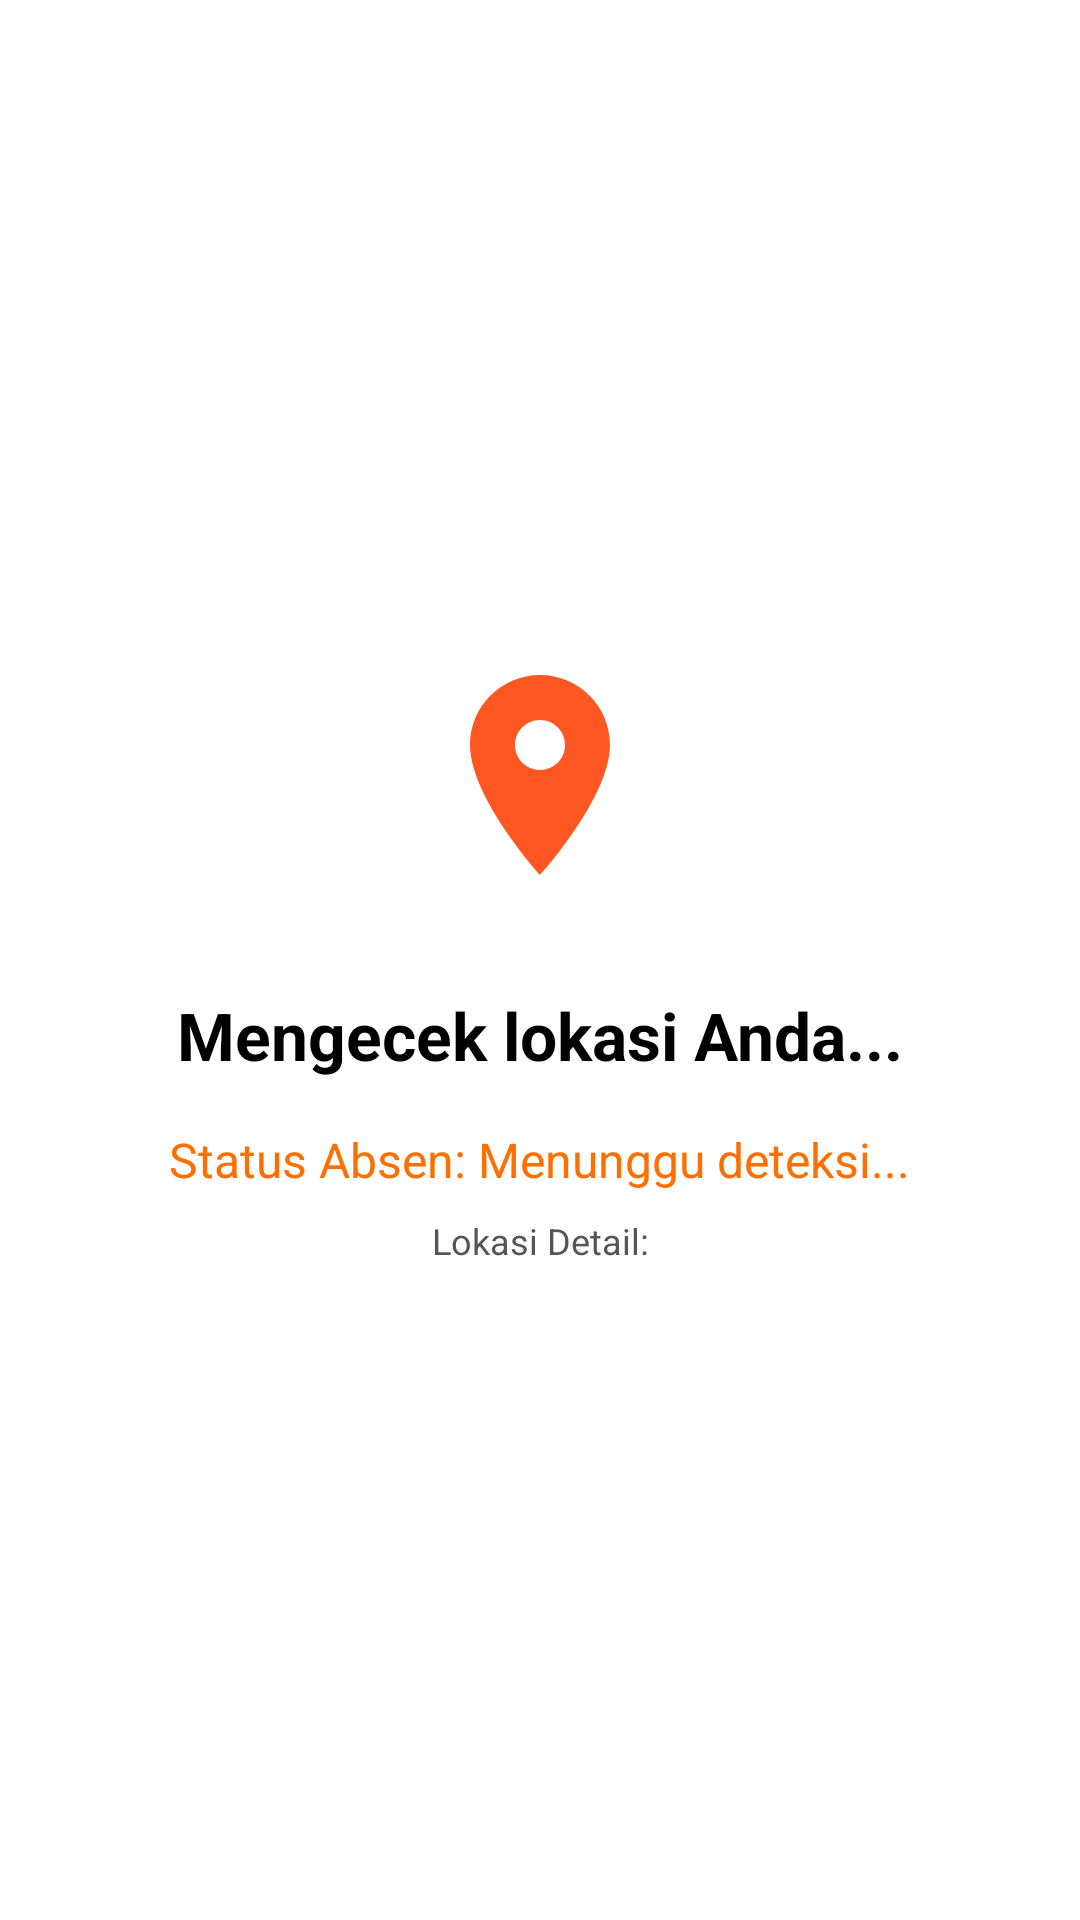

Screen size 1080px x 1920px. Icon name, then its center in pixels as point (x, y):
Ikon Lokasi: point (540, 775)
